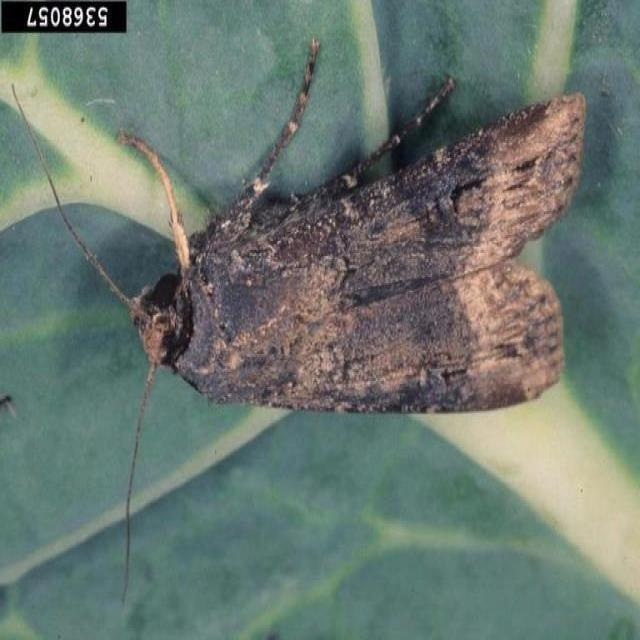black cutworm: (108, 91, 586, 426)
